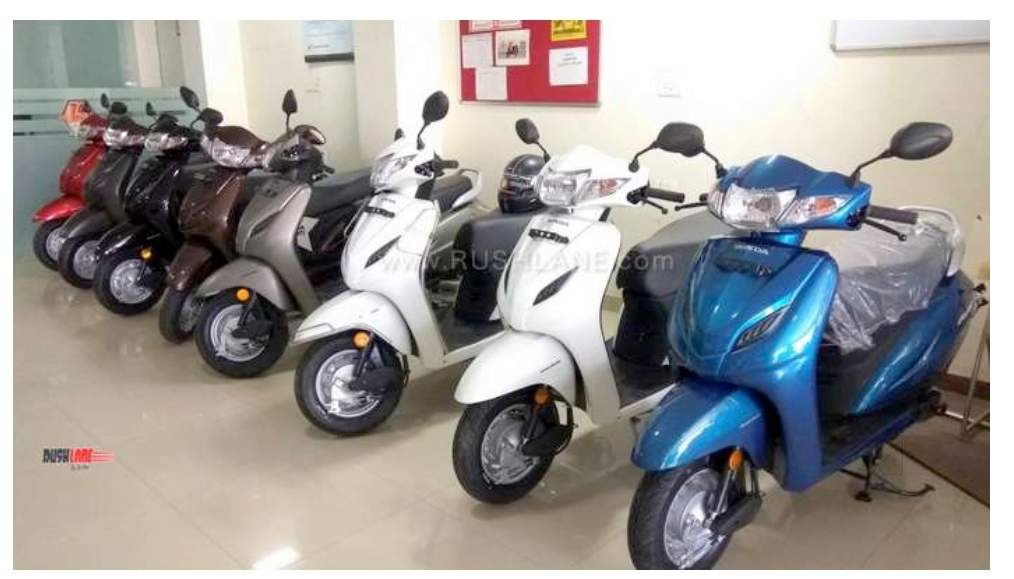Bike: (679, 158, 871, 569), (482, 147, 640, 474), (328, 138, 473, 404), (187, 129, 265, 242)
